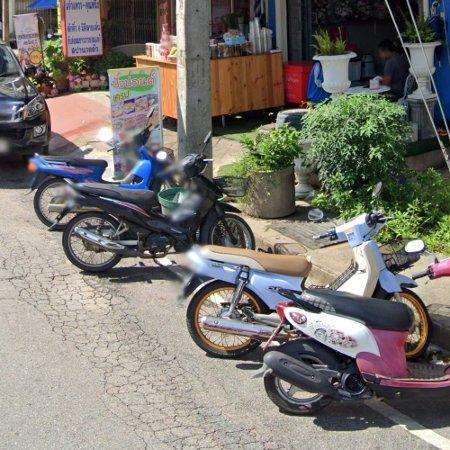motorcycles: (260, 285, 450, 415), (48, 155, 255, 273), (324, 212, 431, 359), (28, 127, 174, 230), (185, 246, 313, 359)
